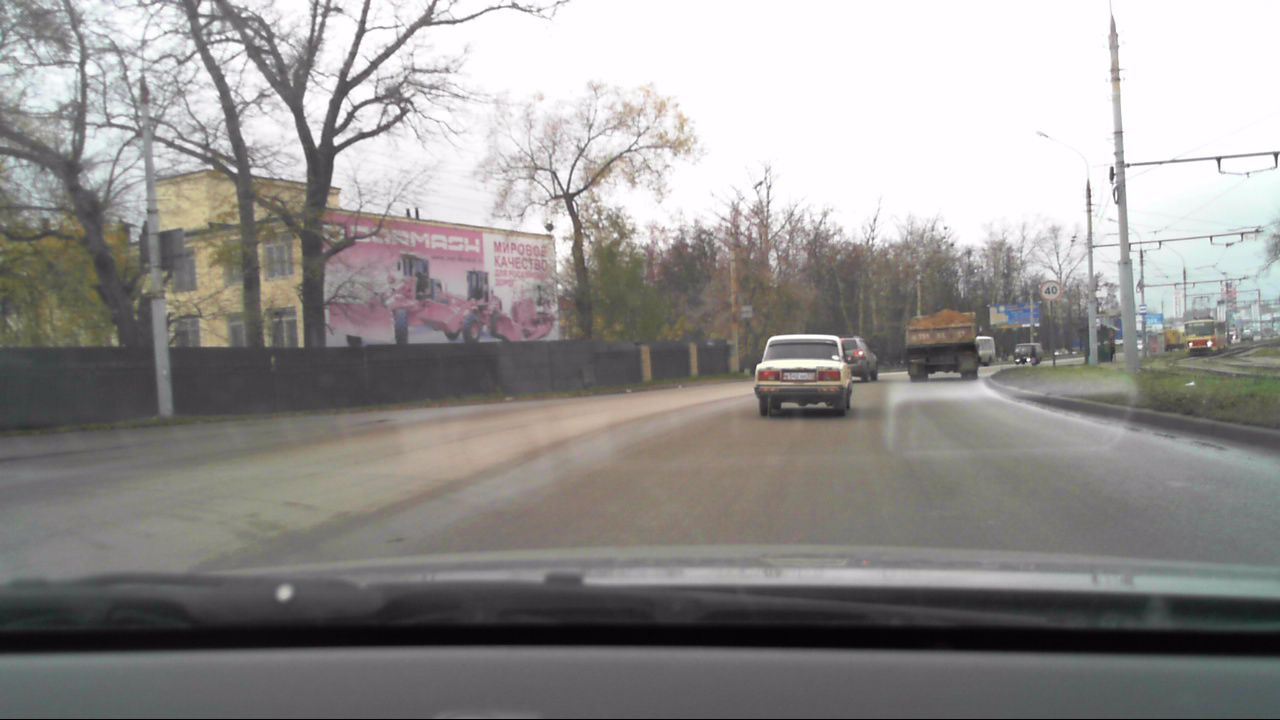speed_warning_40: (1040, 279, 1062, 302)
